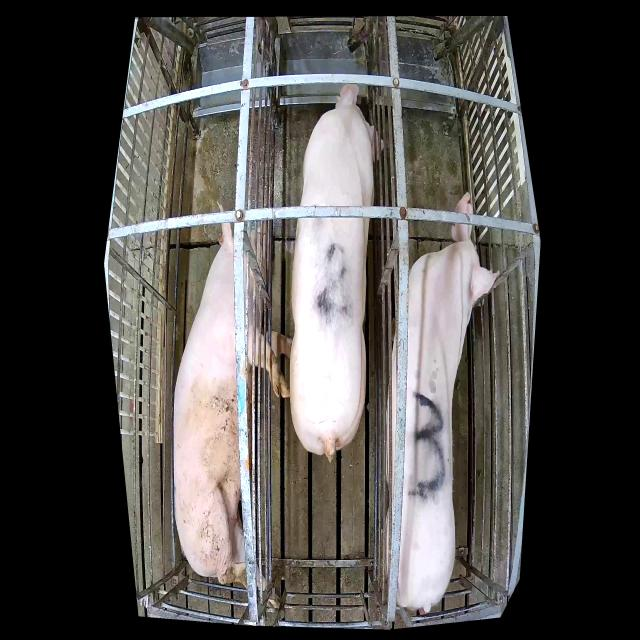pig: (385, 192, 500, 615), (174, 202, 290, 592), (290, 83, 384, 463)
